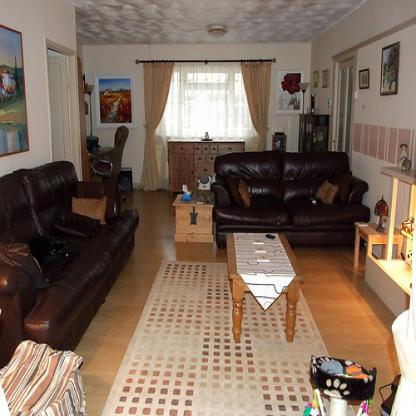chair: (90, 124, 130, 178)
sofa: (0, 160, 140, 353), (211, 152, 372, 244)
